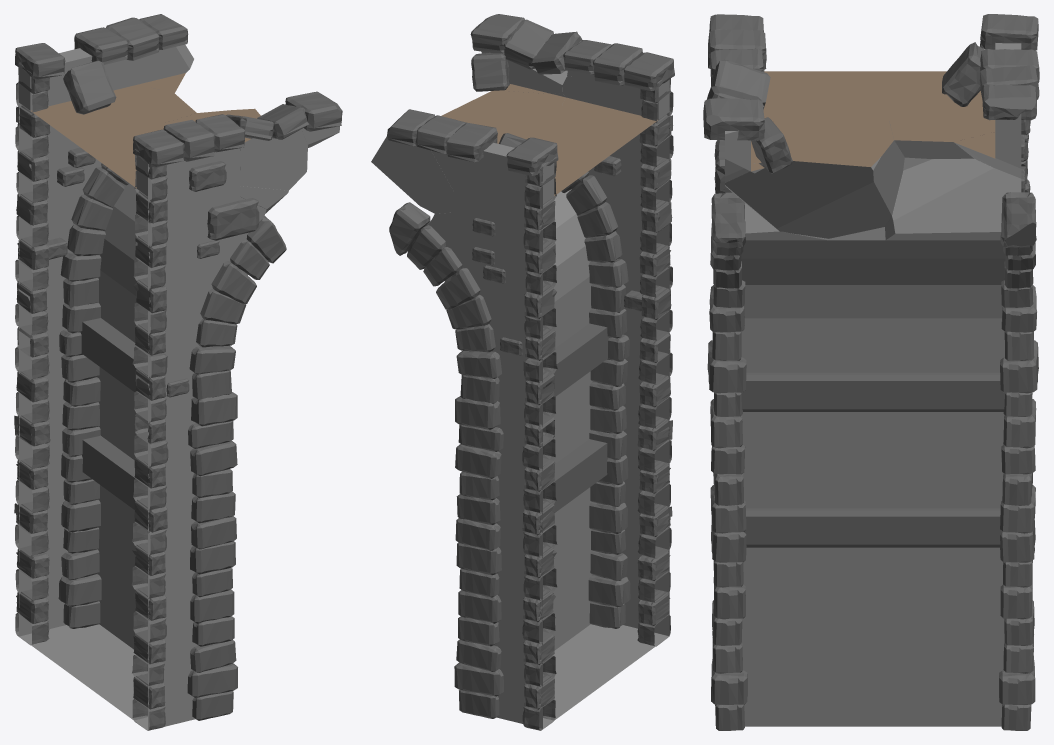
The model's file is Bridge section 3.fbx.
3 renders of one model, left to right at view 1: azimuth 30°, elevation 25°; view 2: azimuth 150°, elevation 25°; view 3: azimuth 270°, elevation 25°, orthographic. The views are drawn at different scales.
Parts seen in each view (by area): view 1: Bridge section 3; view 2: Bridge section 3; view 3: Bridge section 3.
Part boxes in pixels (x1,y1,x2,y2): Bridge section 3: [14, 14, 342, 730]; Bridge section 3: [371, 14, 674, 730]; Bridge section 3: [703, 14, 1039, 730].
Bounding box in the file's own units: 5.91 × 17.14 × 7.68.
